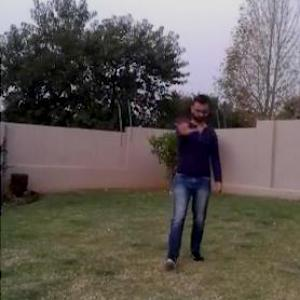follow_hand: (169, 109, 201, 136)
